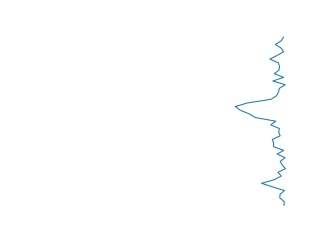interdistributaryEstuary: (233, 38, 293, 206)
